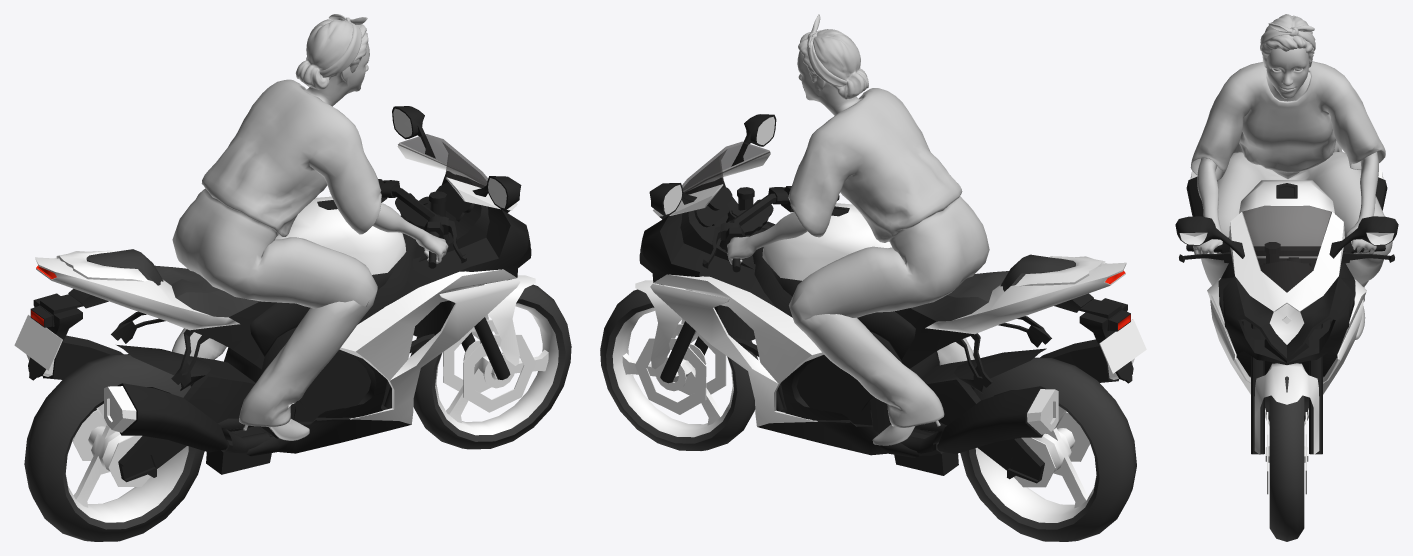
File: sm_motorcyce_04_modelcenterpoint_lod_2.fbx
3 renders of one model, left to right at view 1: azimuth 30°, elevation 25°; view 2: azimuth 150°, elevation 25°; view 3: azimuth 270°, elevation 25°, orthographic. The views are drawn at different scales.
Visible parts, largest first — view 1: sm_motorcyce_04_lod_3; view 2: sm_motorcyce_04_lod_3; view 3: sm_motorcyce_04_lod_3.
Part boxes in pixels (x1,y1,x2,y2): sm_motorcyce_04_lod_3: (14,14,571,541); sm_motorcyce_04_lod_3: (600,14,1146,541); sm_motorcyce_04_lod_3: (1175,14,1398,541).
Size of the model in its own units: 2 by 1.66 by 0.746.
